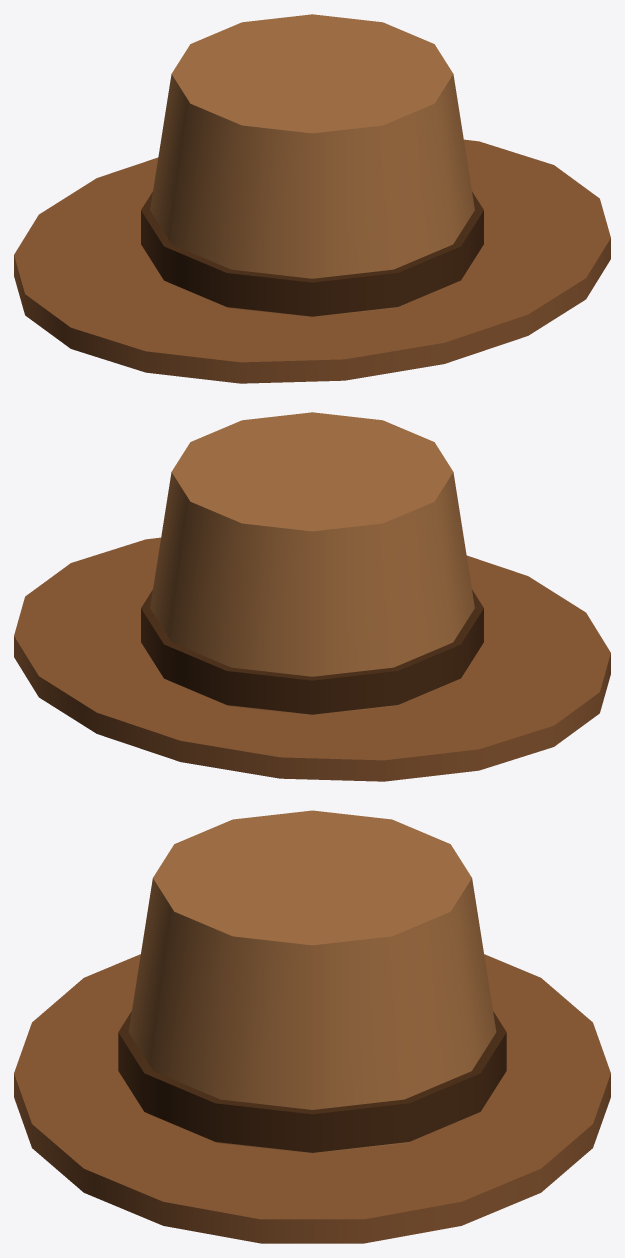
Rendered from hat_cowboy.glb.
3 renders of one model, top to bottom at view 1: azimuth 30°, elevation 25°; view 2: azimuth 150°, elevation 25°; view 3: azimuth 270°, elevation 25°, orthographic. The views are drawn at different scales.
Visible parts, largest first — view 1: Hat; view 2: Hat; view 3: Hat.
Part boxes in pixels (x1,y1,x2,y2): Hat: (14, 14, 610, 383); Hat: (14, 412, 610, 781); Hat: (14, 810, 610, 1243).
Bounding box in the file's own units: 1.3 × 0.455 × 1.12.
